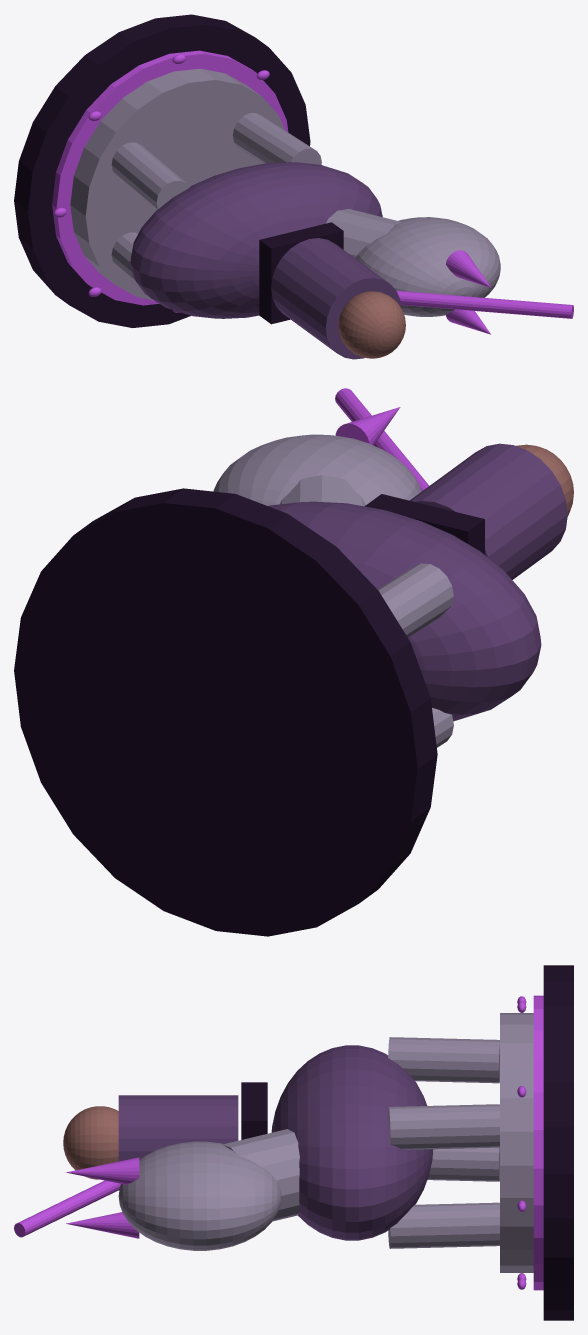
Rendered from villain_knight.glb.
3 views of the same model, one above another, from view 1: azimuth 30°, elevation 25°; view 2: azimuth 150°, elevation 25°; view 3: azimuth 270°, elevation 25° (orthographic). The views are drawn at different scales.
Visible parts, largest first — view 1: body, base, base2, head, ring1, rider, rhead, leg-0.380.25, leg0.380.25, saddle, lance, neck (+3 smaller); view 2: base, body, rider, head, leg-0.380.25, saddle, neck, lance, horn1, rhead; view 3: body, head, base, base2, rider, leg0.380.25, leg-0.380.25, leg0.38-0.25, ring1, neck, rhead, leg-0.38-0.25 (+4 smaller).
Part boxes in pixels (box(x1,y1,x2,y2)): body: box(130, 162, 382, 318); base: box(14, 14, 310, 327); base2: box(70, 68, 285, 300); head: box(355, 217, 500, 316); ring1: box(52, 50, 288, 305); rider: box(271, 238, 401, 359); rhead: box(338, 291, 405, 358); leg-0.380.25: box(111, 142, 189, 209); leg0.380.25: box(232, 113, 321, 164); saddle: box(259, 222, 343, 324); lance: box(396, 290, 573, 318); neck: box(326, 209, 400, 258); base: box(14, 488, 437, 936); body: box(268, 501, 541, 721); rider: box(410, 443, 567, 579); head: box(213, 434, 421, 505); leg-0.380.25: box(378, 563, 453, 637); saddle: box(365, 494, 484, 554); neck: box(280, 475, 365, 506); lance: box(335, 388, 429, 491); horn1: box(335, 407, 400, 445); rhead: box(516, 444, 573, 516); body: box(271, 1045, 433, 1240); head: box(118, 1141, 281, 1250); base: box(543, 965, 573, 1320); base2: box(500, 1013, 533, 1272); rider: box(118, 1095, 238, 1190); leg0.380.25: box(388, 1104, 499, 1149); leg-0.380.25: box(388, 1037, 499, 1083); leg0.38-0.25: box(388, 1202, 499, 1248); ring1: box(533, 995, 543, 1290); neck: box(222, 1129, 299, 1221); rhead: box(63, 1106, 118, 1179); leg-0.38-0.25: box(427, 1147, 499, 1181).
Size of the model in its own units: 1.79 by 1.64 by 2.58.
